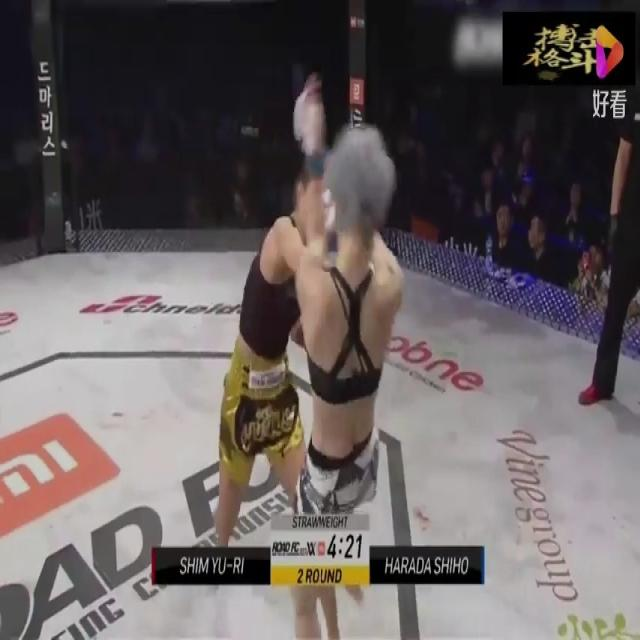fight: (190, 80, 422, 639)
